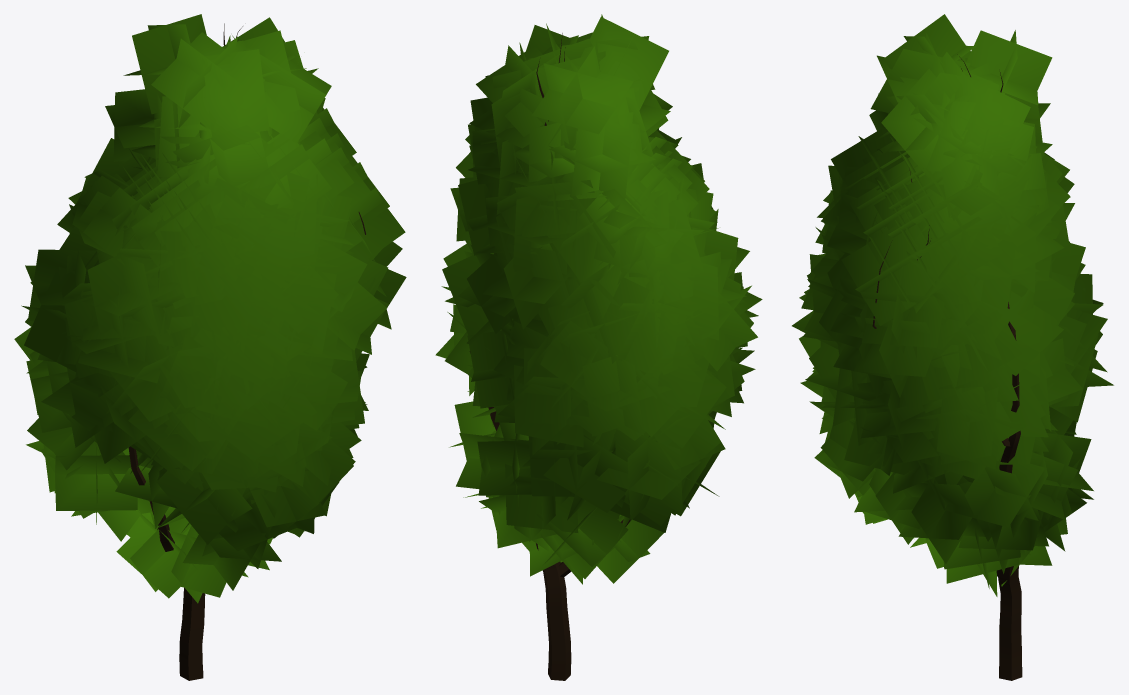
File: tree_lod2.fbx
The picture shows the model from 3 angles, left to right: view 1: azimuth 30°, elevation 25°; view 2: azimuth 150°, elevation 25°; view 3: azimuth 270°, elevation 25°; orthographic projection. The views are drawn at different scales.
Parts seen in each view (by area): view 1: transform1; view 2: transform1; view 3: transform1.
Boxes of the visible parts, x1,y1,x2,y2 form: transform1: [14, 14, 406, 680]; transform1: [435, 14, 762, 680]; transform1: [792, 14, 1113, 680].
Bounding box in the file's own units: 335 × 636 × 291.
